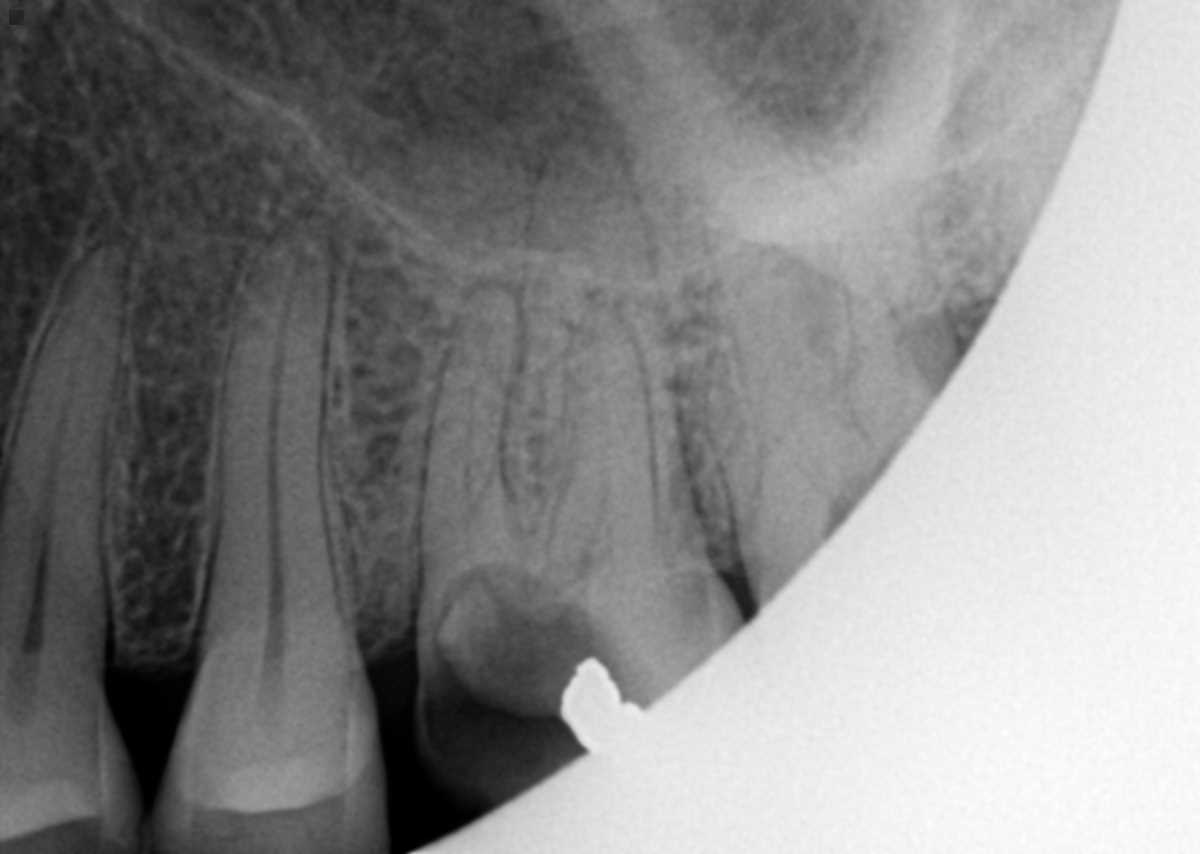Apical Lesion: (484, 49, 640, 175)
Distal Canal: (585, 318, 603, 550)
Distal Root: (542, 300, 660, 558), (841, 159, 947, 359)
Main Canal: (18, 313, 99, 660), (265, 228, 311, 634)
Main Root: (200, 204, 344, 632), (0, 233, 136, 663)
Mesial Canal: (465, 309, 501, 559)
Mesial Root: (703, 240, 836, 502), (425, 282, 524, 573)
Palatal Root: (466, 140, 711, 557), (694, 99, 908, 469)
decay: (417, 589, 607, 794)
